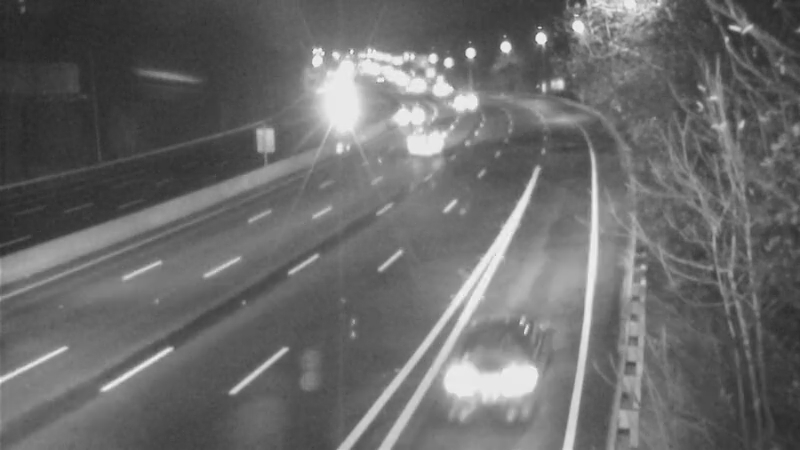vehicle: (445, 323, 555, 433), (412, 65, 462, 115), (440, 77, 490, 127), (386, 88, 436, 138), (400, 115, 450, 165)
